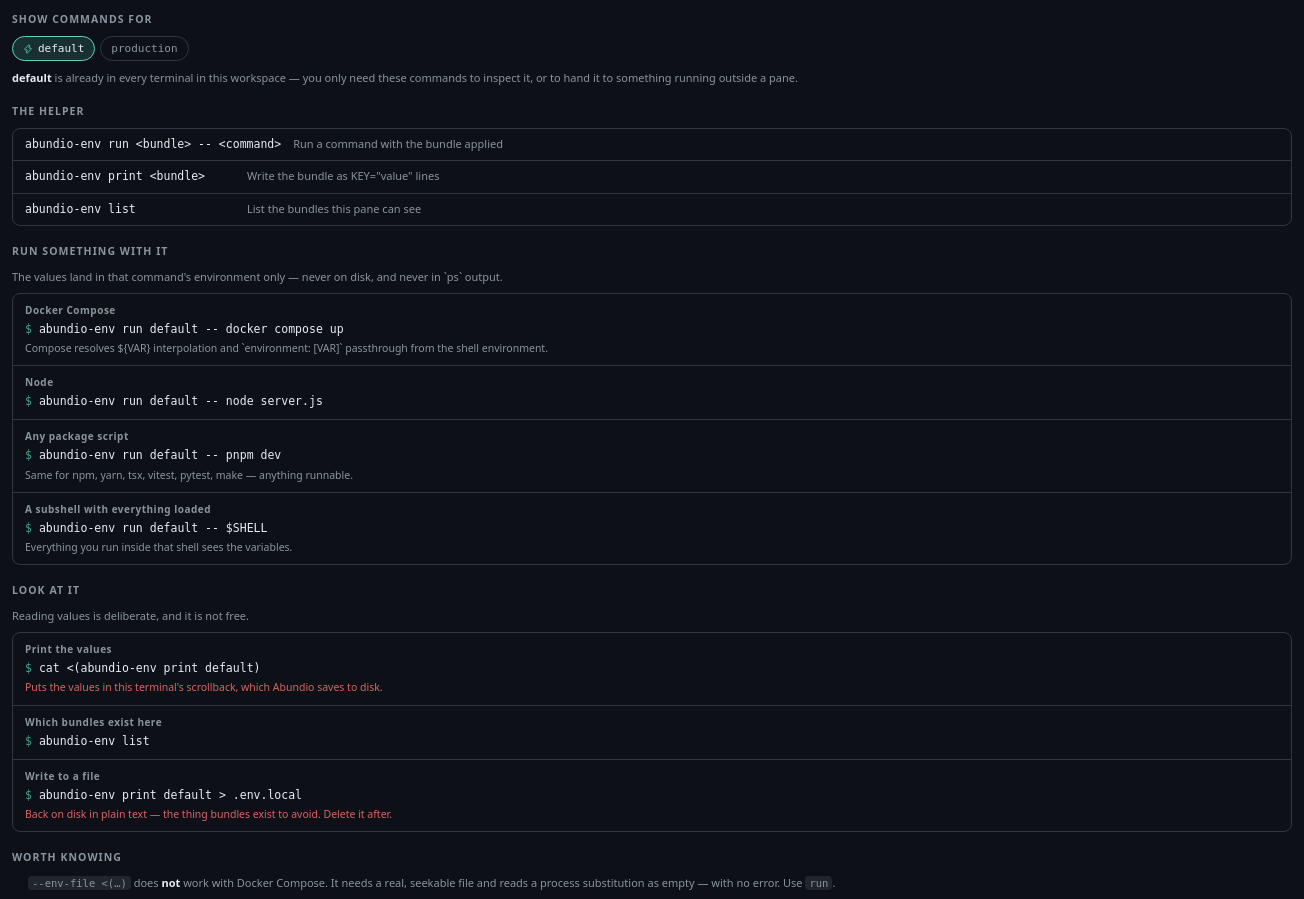
Test: EnvUsageView › retargets every recipe when another bundle is picked
Click the button "production". click: [144, 49]
box: [100,36,189,61]
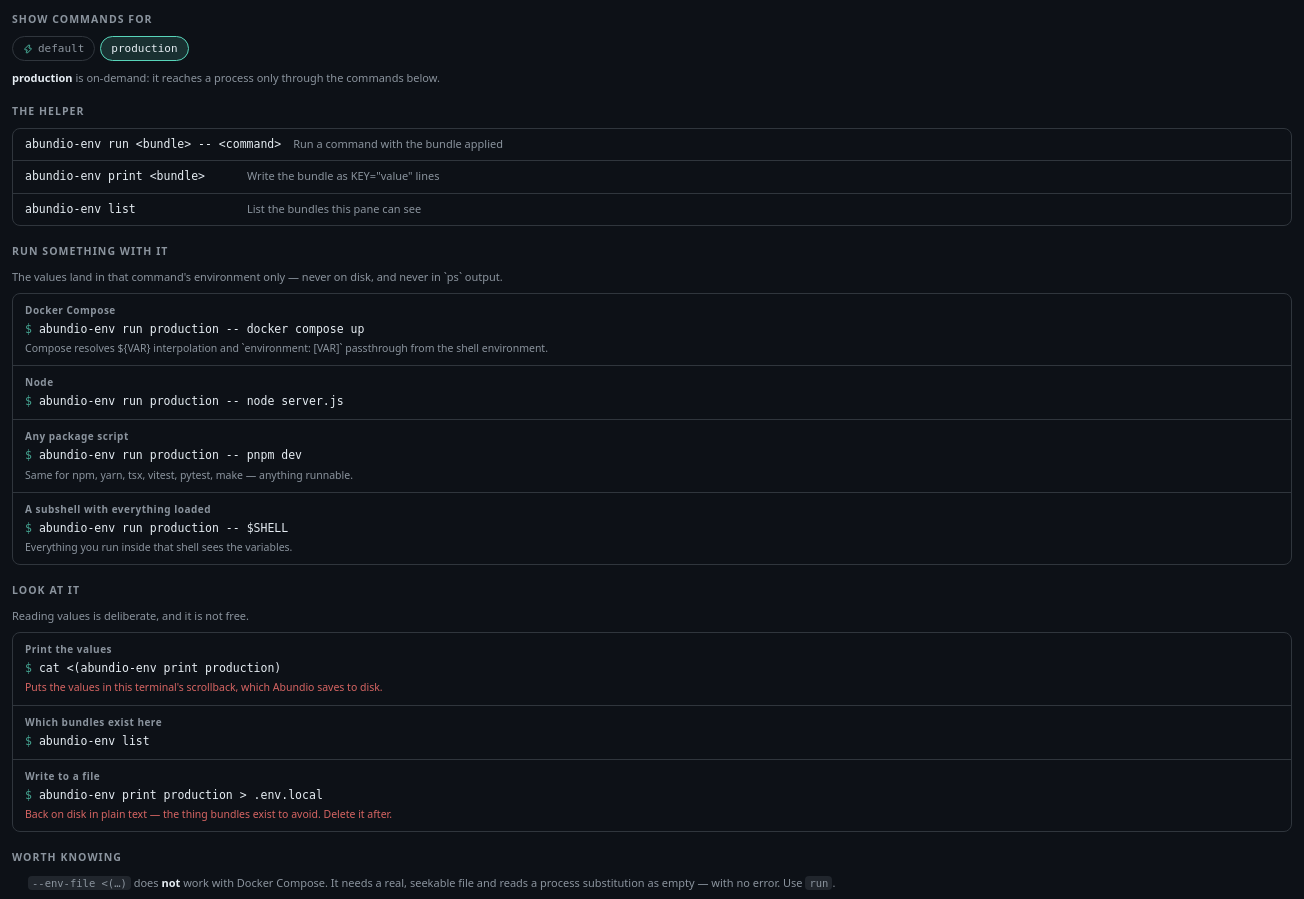
Expected: the text "abundio-env run production -- docker compose up" is shown, [39,322,364,336]
Expected: the text "default" is gone
Expected: the text "abundio-env run production -- node server.js" is shown, [39,394,344,408]
